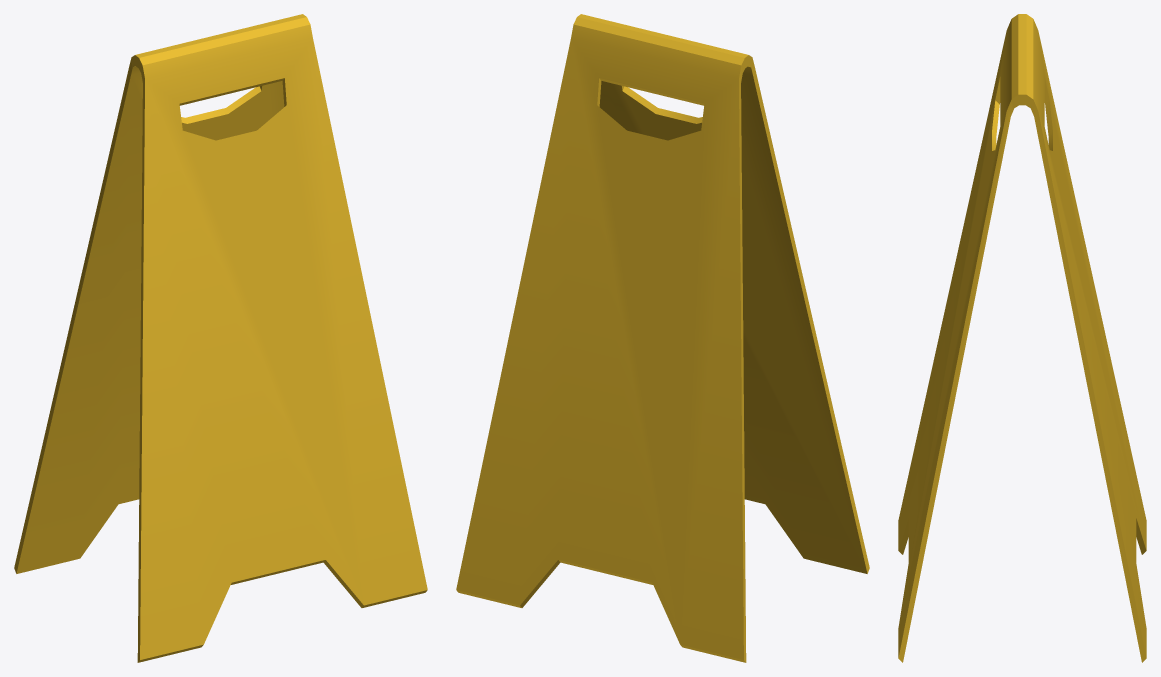
The model's file is standing_sign1.fbx.
The picture shows the model from 3 angles, left to right: view 1: azimuth 30°, elevation 25°; view 2: azimuth 150°, elevation 25°; view 3: azimuth 270°, elevation 25°; orthographic projection.
Parts seen in each view (by area): view 1: Cube.001; view 2: Cube.001; view 3: Cube.001.
Part boxes in pixels (x1,y1,x2,y2): Cube.001: (14,14,427,662); Cube.001: (456,14,869,662); Cube.001: (898,14,1146,662).
Size of the model in its own units: 50.16 by 91.18 by 38.
